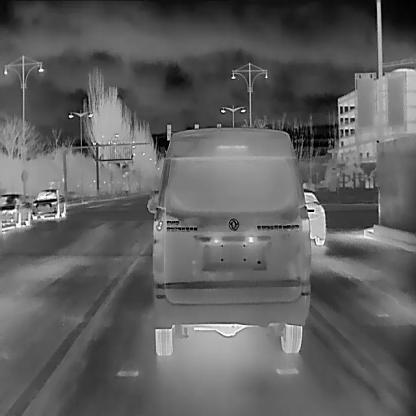car: (146, 127, 312, 355), (300, 187, 326, 244), (29, 188, 66, 220), (0, 192, 32, 228)
